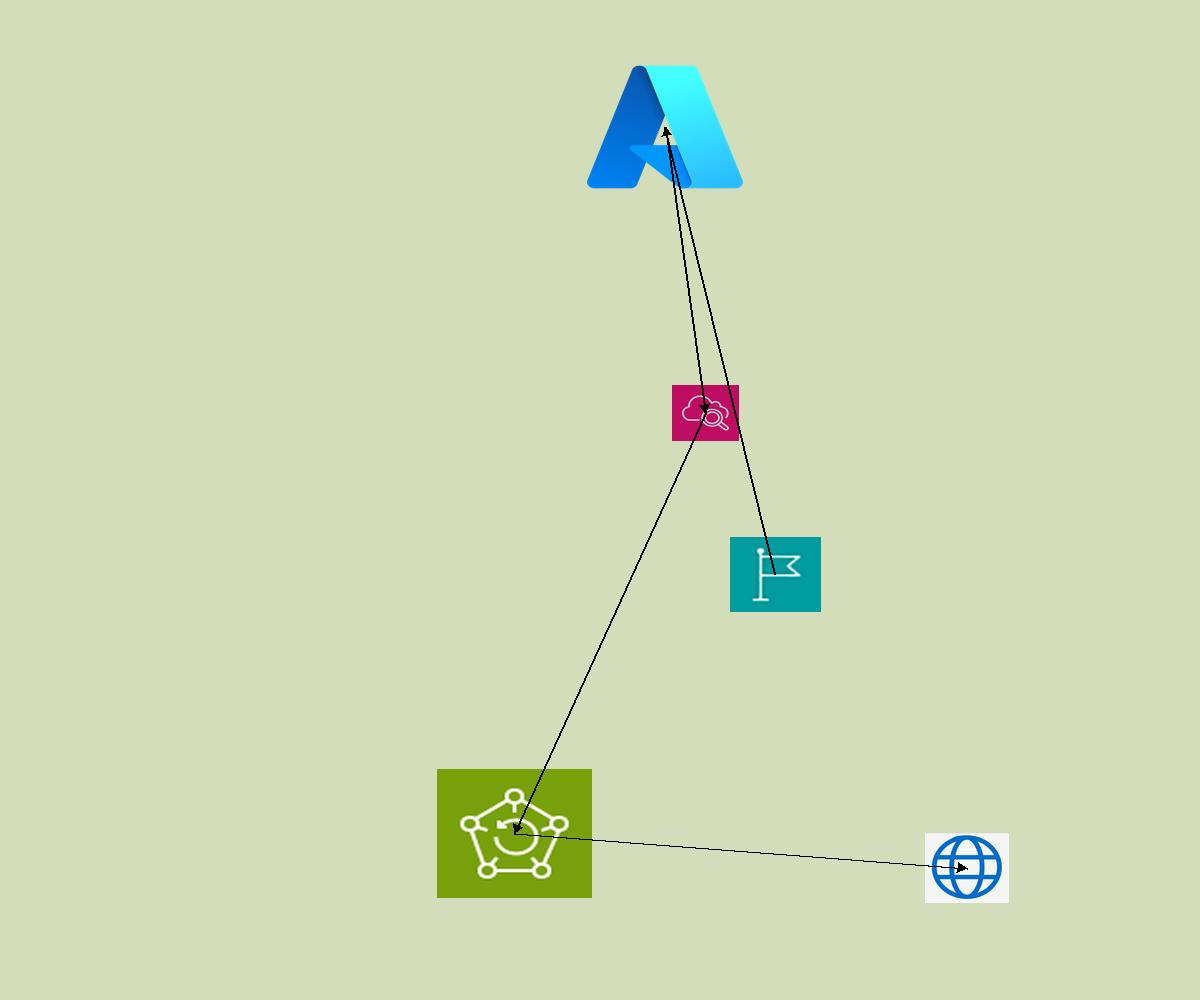AWS-Backup: (437, 769, 592, 898)
AWS-CloudWatch: (672, 385, 739, 441)
AWS-Region: (730, 537, 821, 612)
Azure_http: (925, 833, 1009, 903)
Azure_services: (580, 56, 750, 198)
